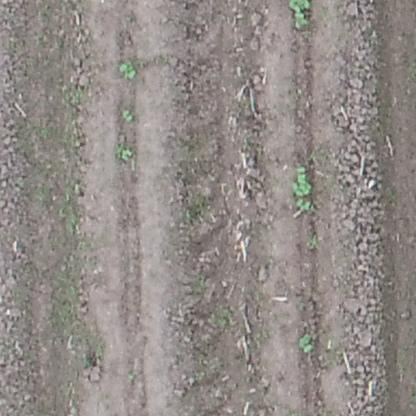vc: (290, 162, 312, 196), (289, 1, 312, 28), (297, 330, 315, 353), (118, 61, 137, 79), (294, 199, 315, 211), (119, 146, 133, 163), (121, 107, 135, 123)
